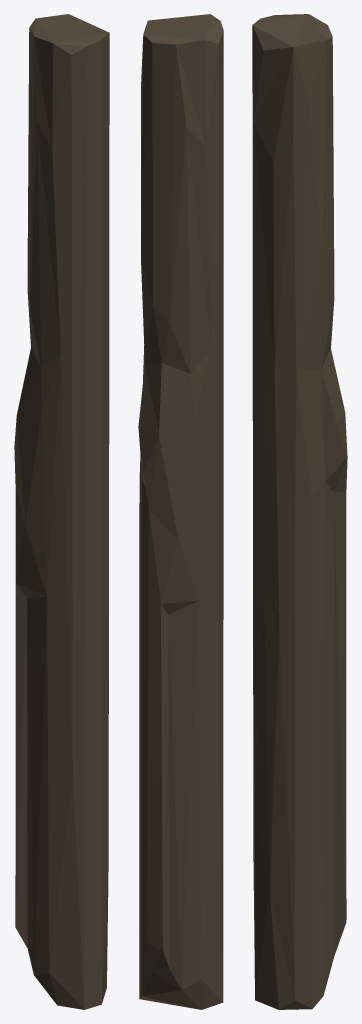
Rendered from SM_wooden_rod_06.fbx.
3 renders of one model, left to right at view 1: azimuth 90°, elevation 25°; view 2: azimuth 150°, elevation 25°; view 3: azimuth 270°, elevation 25°, orthographic.
Visible parts, largest first — view 1: wooden_rod_06; view 2: wooden_rod_06; view 3: wooden_rod_06.
Part boxes in pixels (x1,y1,x2,y2): wooden_rod_06: (14, 14, 109, 1009); wooden_rod_06: (138, 14, 223, 1009); wooden_rod_06: (252, 14, 347, 1009).
Bounding box in the file's own units: 30.41 × 390 × 34.88.
